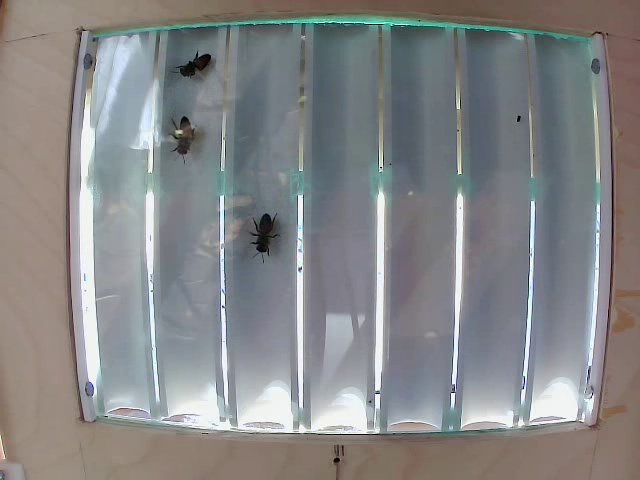bee: (242, 201, 293, 262), (167, 109, 209, 153), (176, 43, 221, 84)
